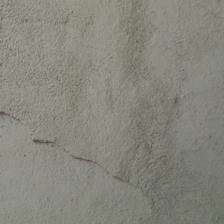Crack: (5, 111, 160, 219)
